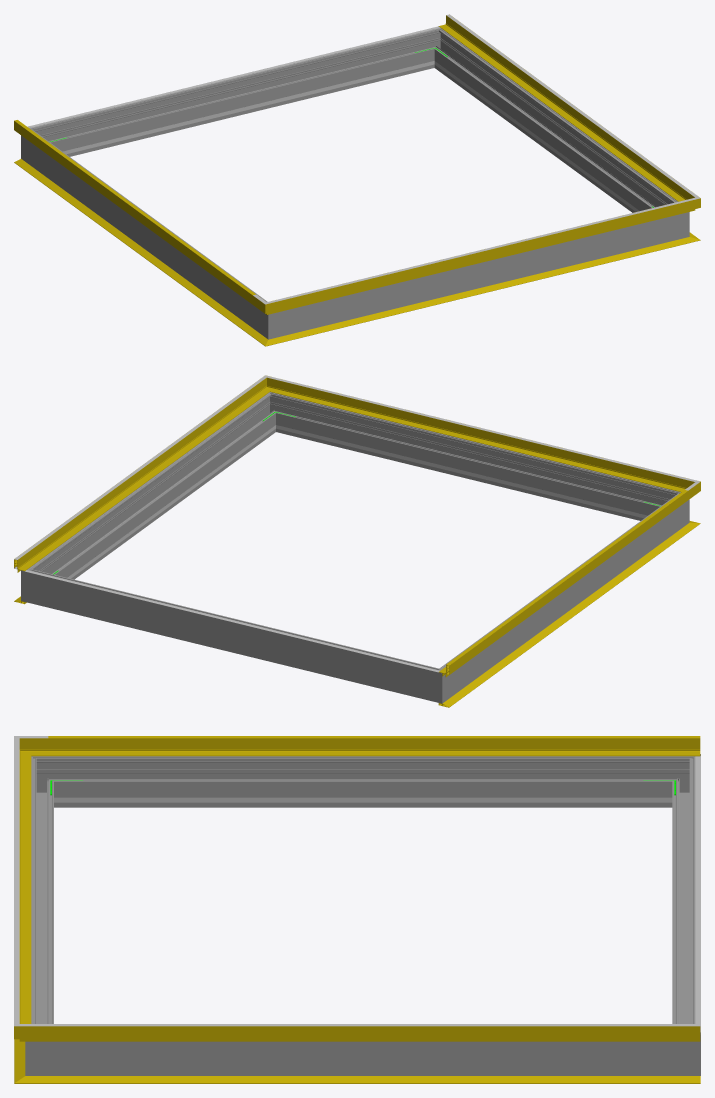
The picture shows the model from 3 angles, top to bottom: view 1: azimuth 30°, elevation 25°; view 2: azimuth 150°, elevation 25°; view 3: azimuth 270°, elevation 25°; orthographic projection. The views are drawn at different scales.
Visible parts, largest first — view 1: 3DGeom-276, 3DGeom-298, 3DGeom-297, 3DGeom-268, 3DGeom-56, 3DGeom-58, 3DGeom-28, 3DGeom-50, 3DGeom-38, 3DGeom-244, 3DGeom-220, 3DGeom-66 (+6 smaller); view 2: 3DGeom-298, 3DGeom-276, 3DGeom-297, 3DGeom-268, 3DGeom-56, 3DGeom-58, 3DGeom-50, 3DGeom-38, 3DGeom-239, 3DGeom-220, 3DGeom-278, 3DGeom-66 (+5 smaller); view 3: 3DGeom-268, 3DGeom-297, 3DGeom-50, 3DGeom-58, 3DGeom-276, 3DGeom-298, 3DGeom-30, 3DGeom-56, 3DGeom-232, 3DGeom-64, 3DGeom-71, 3DGeom-220 (+7 smaller).
Boxes of the visible parts, x1,y1,x2,y2 form: 3DGeom-276: (45,32,430,156); 3DGeom-298: (290,217,667,334); 3DGeom-297: (436,35,672,212); 3DGeom-268: (33,135,262,329); 3DGeom-56: (285,203,679,310); 3DGeom-58: (438,15,684,200); 3DGeom-28: (283,240,678,341); 3DGeom-50: (14,121,252,304); 3DGeom-38: (14,159,259,337); 3DGeom-244: (70,66,413,152); 3DGeom-220: (27,26,440,127); 3DGeom-66: (285,202,678,298); 3DGeom-298: (279,396,665,520); 3DGeom-276: (42,573,423,698); 3DGeom-297: (37,399,273,579); 3DGeom-268: (448,500,676,694); 3DGeom-56: (281,382,676,490); 3DGeom-58: (14,385,263,572); 3DGeom-50: (439,491,688,677); 3DGeom-38: (438,529,687,707); 3DGeom-239: (297,430,639,517); 3DGeom-220: (25,570,439,672); 3DGeom-278: (420,662,454,703); 3DGeom-66: (285,380,678,477); 3DGeom-268: (59,756,666,807); 3DGeom-297: (59,1041,666,1075); 3DGeom-50: (48,738,700,756); 3DGeom-58: (48,1026,700,1041); 3DGeom-276: (672,768,695,1023); 3DGeom-298: (31,768,53,1023); 3DGeom-30: (48,1076,700,1083); 3DGeom-56: (19,762,31,1023); 3DGeom-232: (87,797,639,802); 3DGeom-64: (48,1024,700,1026); 3DGeom-71: (48,736,700,738); 3DGeom-220: (695,756,700,1032).
Bounding box in the file's own units: 3.05 × 0.2831 × 3.05.
